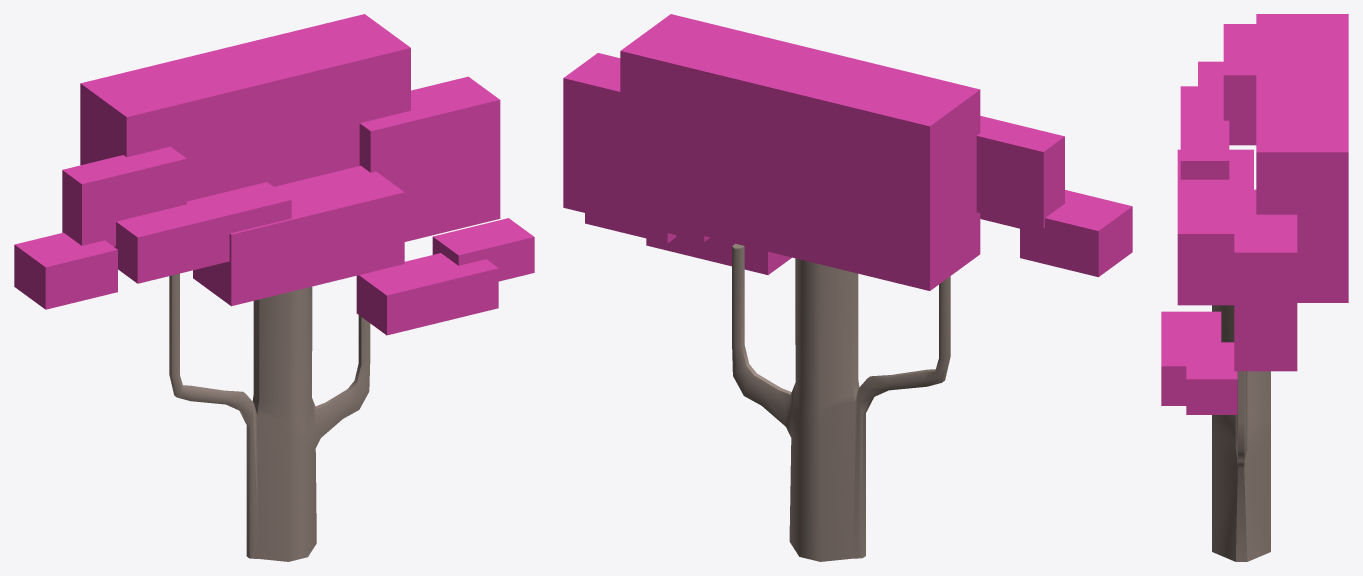
Rendered from Arbol.FBX.
3 views of the same model, side by side, from view 1: azimuth 30°, elevation 25°; view 2: azimuth 150°, elevation 25°; view 3: azimuth 270°, elevation 25° (orthographic). The views are drawn at different scales.
Parts seen in each view (by area): view 1: G_Arbol; view 2: G_Arbol; view 3: G_Arbol.
Part boxes in pixels (x1,y1,x2,y2): G_Arbol: [14, 14, 534, 561]; G_Arbol: [563, 14, 1132, 561]; G_Arbol: [1161, 14, 1348, 561].
Bounding box in the file's own units: 42.78 × 39.16 × 14.42.
